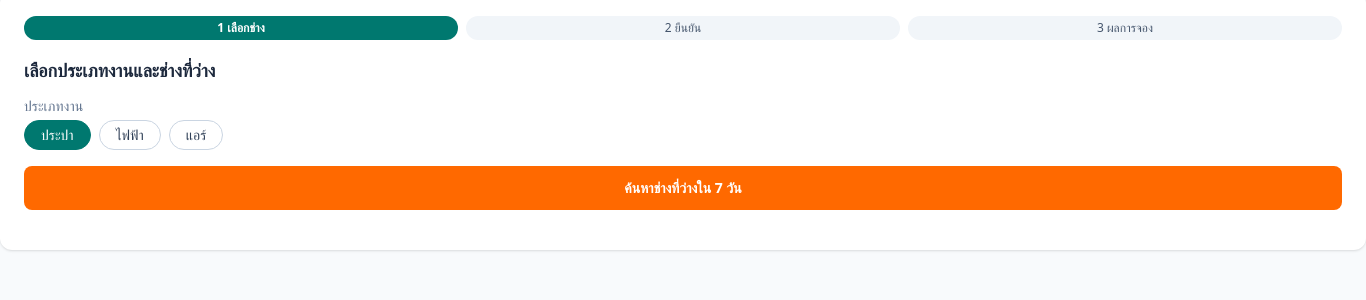
Scenario: UI-07-01 ไม่มีช่างว่าง แสดงข้อความตาม mockup และไม่มีปุ่มเข้าคิวรอ (รอ Q-28)
The width and height of the screenshot is (1366, 300).
Click the button "ค้นหาช่างที่ว่างใน 7 วัน". click: (683, 188)
box: [24,166,1342,210]
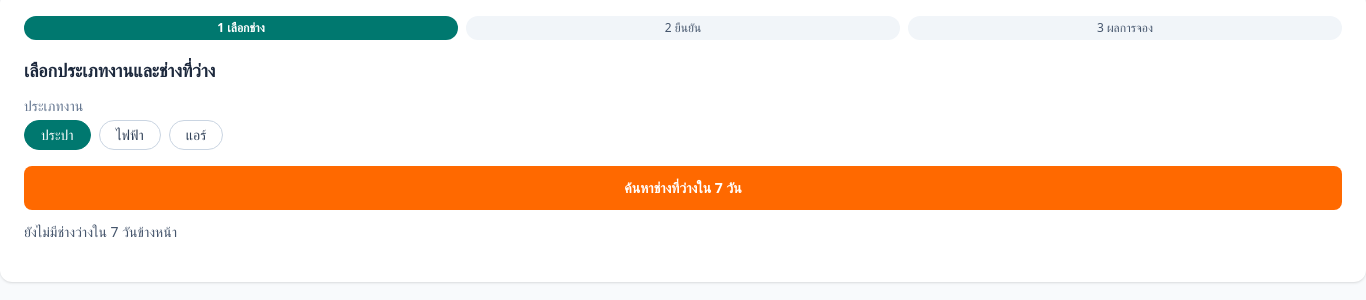
Expected: the text "ยังไม่มีช่างว่างใน 7 วันข้างหน้า" is shown, [24,222,177,241]
